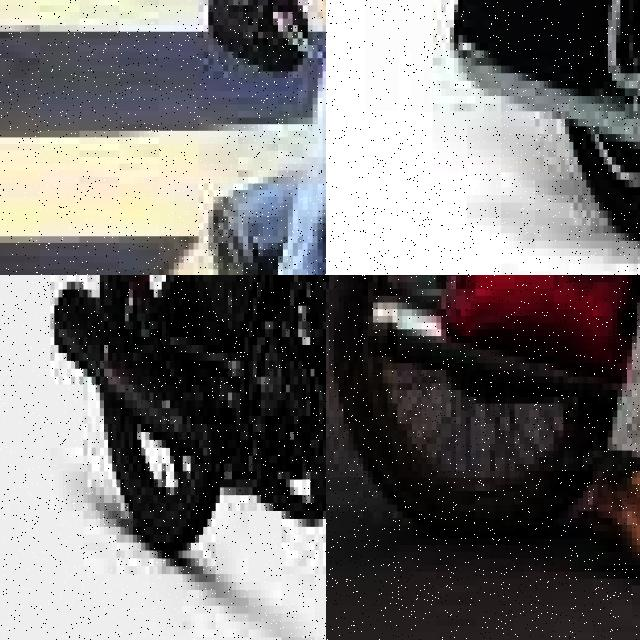bike: (50, 275, 326, 640), (326, 275, 640, 592), (424, 0, 640, 275), (183, 0, 326, 275)
